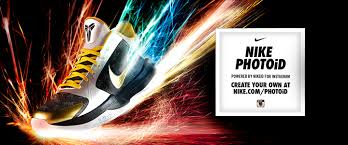nike: (107, 58, 134, 90)
